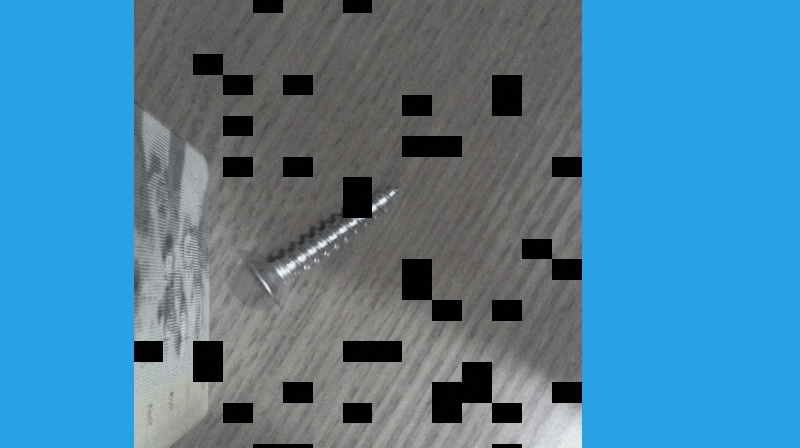S001: (237, 178, 406, 309)
